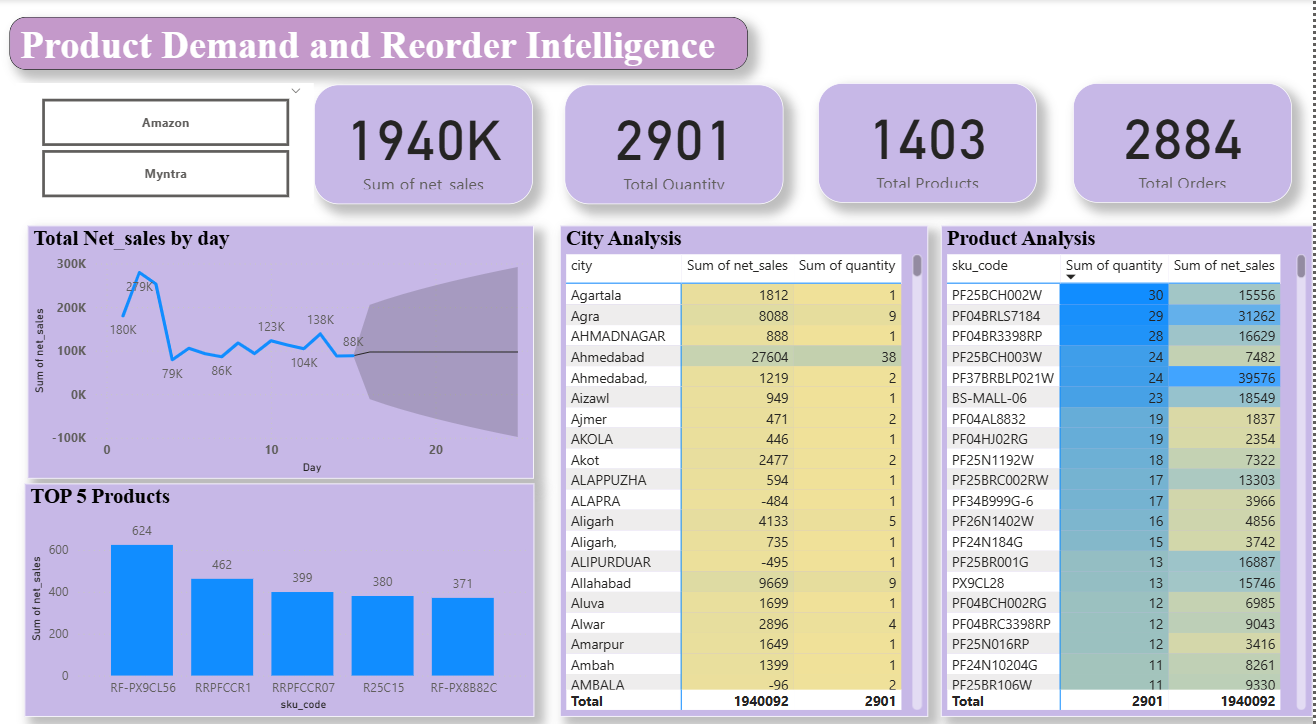

The dashboard page shown, as its layout file describes it:
{"tool":"powerbi","page":{"name":"Page 3","canvas":[1280,720],"ordinal":2},"visuals":[{"type":"textbox","box":[10,0,280,280],"z":0},{"type":"textbox","title":"Product Demand and Reorder Intelligence","box":[10.6,18.2,719.2,51.5],"z":1000},{"type":"card","fields":{"Values":["CountNonNull(master_sheet.date)"]},"box":[1046.3,81.8,213.5,116.6],"z":2000},{"type":"card","fields":{"Values":["Sum(master_sheet.net_sales)"]},"box":[307.4,83.3,213.5,116.6],"z":3000},{"type":"card","fields":{"Values":["Sum(master_sheet.quantity)"]},"box":[551.2,83.3,213.5,116.6],"z":4000},{"type":"card","fields":{"Values":["Count(master_sheet.sku_code)"]},"box":[798,81.8,213.5,116.6],"z":5000},{"type":"slicer","fields":{"Values":["master_sheet.platform"]},"box":[16.7,81.8,290.7,118.1],"z":6000},{"type":"lineChart","title":"Total Net_sales by day","fields":{"Y":["Sum(master_sheet.net_sales)"],"Category":["master_sheet.date.Variation.Date Hierarchy.Day"]},"box":[27.3,221.1,493.6,246.8],"z":7000},{"type":"pivotTable","title":"City Analysis","fields":{"Rows":["master_sheet.city"],"Values":["Sum(master_sheet.net_sales)","Sum(master_sheet.quantity)"]},"box":[546.6,221.1,358.9,478.5],"z":8000},{"type":"columnChart","title":"TOP 5 Products","fields":{"Category":["master_sheet.sku_code"],"Y":["Sum(master_sheet.net_sales)"]},"box":[24.2,472.4,496.7,227.1],"z":9000},{"type":"pivotTable","title":"Product Analysis","fields":{"Rows":["master_sheet.sku_code"],"Values":["Sum(master_sheet.quantity)","Sum(master_sheet.net_sales)"]},"box":[917.6,221.1,361.9,478.5],"z":10000}]}

Visuals, with their boxes in screenshot pixels (x1, y1, x2, y2), scaled from the page's 1280x720 canvas onto the 1316x724 screenshot:
textbox: [left=10, top=0, right=298, bottom=282]
"Product Demand and Reorder Intelligence" textbox: [left=11, top=18, right=750, bottom=70]
card - CountNonNull(master_sheet.date): [left=1076, top=82, right=1295, bottom=200]
card - Sum(master_sheet.net_sales): [left=316, top=84, right=536, bottom=201]
card - Sum(master_sheet.quantity): [left=567, top=84, right=786, bottom=201]
card - Count(master_sheet.sku_code): [left=820, top=82, right=1040, bottom=200]
slicer - master_sheet.platform: [left=17, top=82, right=316, bottom=201]
"Total Net_sales by day" lineChart: [left=28, top=222, right=536, bottom=470]
"City Analysis" pivotTable: [left=562, top=222, right=931, bottom=703]
"TOP 5 Products" columnChart: [left=25, top=475, right=536, bottom=703]
"Product Analysis" pivotTable: [left=943, top=222, right=1315, bottom=703]
